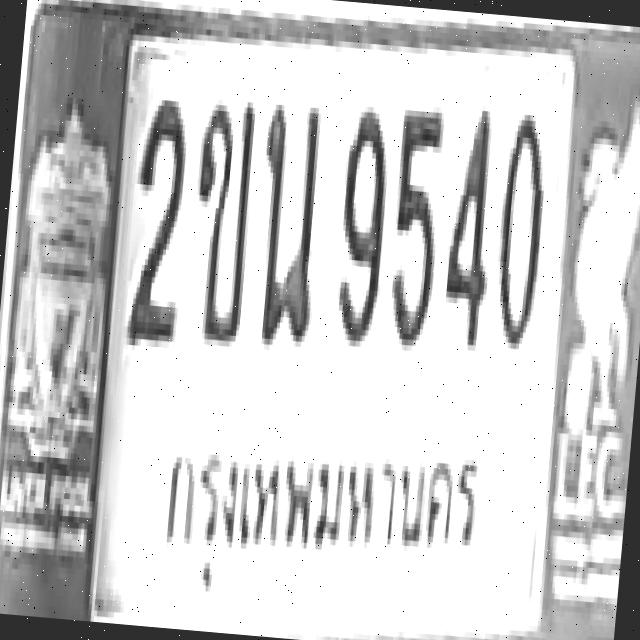0: (488, 107, 552, 350)
11KhorKhai: (182, 92, 258, 341)
2: (124, 98, 192, 342)
34NorNu: (247, 94, 324, 344)
4: (437, 102, 501, 346)
5: (381, 104, 445, 346)
9: (327, 102, 393, 344)
Bangkok: (144, 400, 490, 606)
